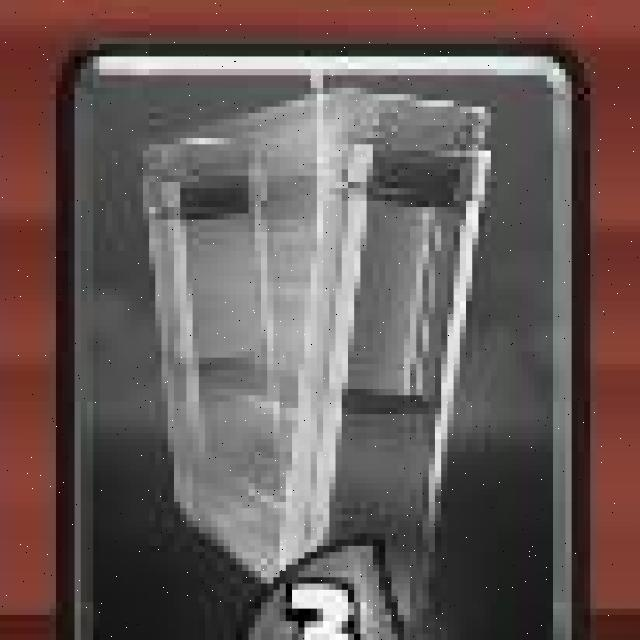Clone_Spell: (38, 29, 604, 640)
